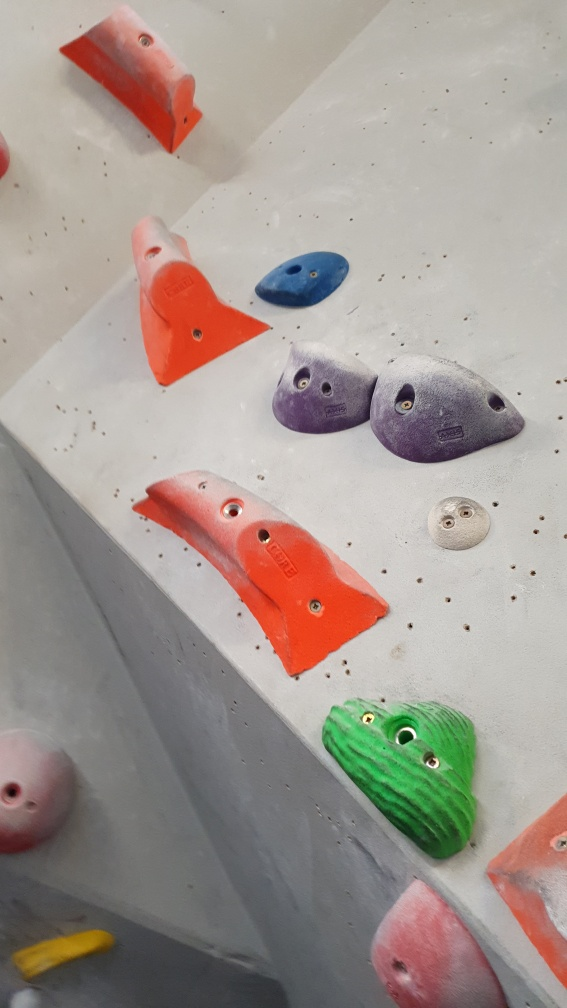Crimp: (256, 248, 358, 311)
Jug: (320, 693, 480, 861), (366, 351, 530, 461), (273, 337, 384, 439)
Pinch: (134, 463, 394, 672), (128, 211, 272, 390), (59, 6, 210, 152), (488, 792, 567, 999)
